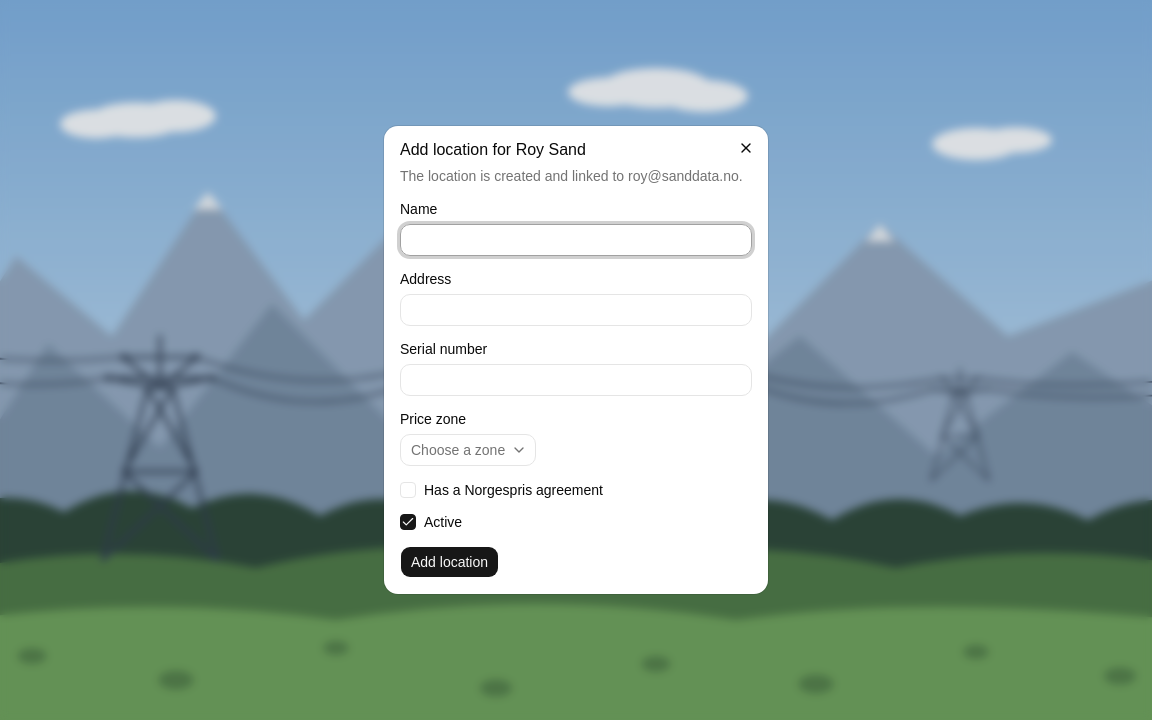
Test: AddLocationDialog › shows a duplicate serial number message and keeps the typed values
The width and height of the screenshot is (1152, 720).
Type "Cabin" into the field labelled "Name".
click(576, 240); type("Cabin")  # box [400,224,752,256]
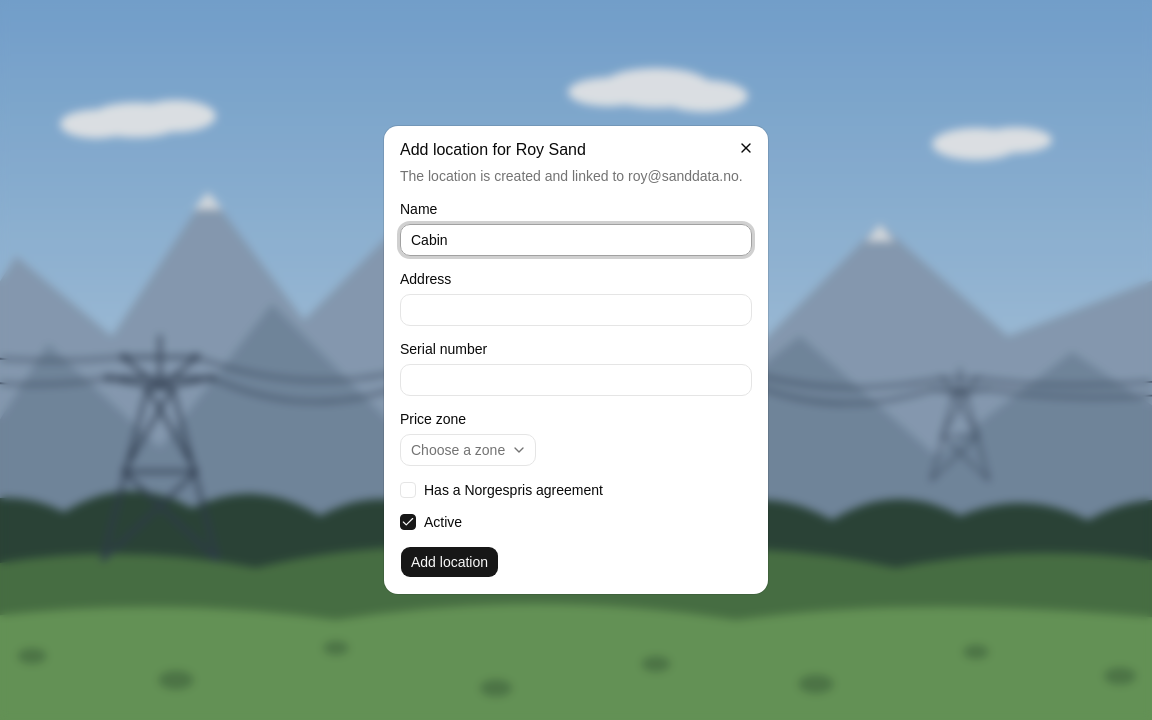
Type "Hyttevegen 1" into the field labelled "Address".
click(576, 310); type("Hyttevegen 1")  # box [400,294,752,326]
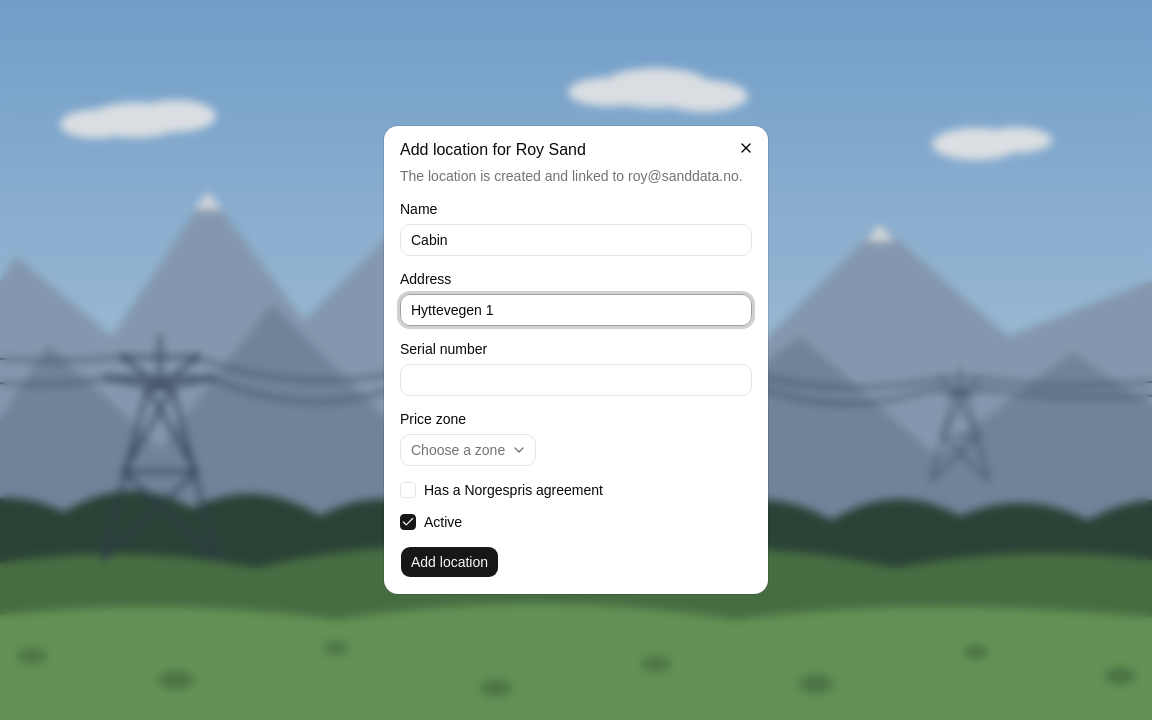
Type "SN-1" into the field labelled "Serial number".
click(576, 380); type("SN-1")  # box [400,364,752,396]
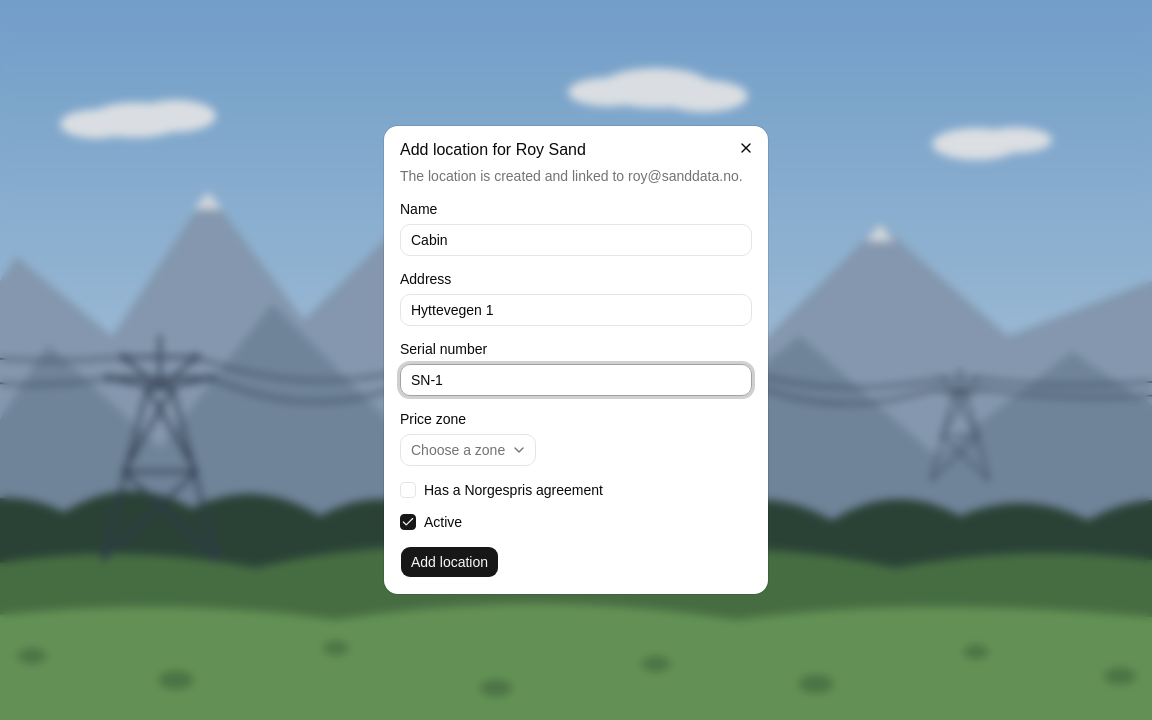
Click the dropdown named "Price zone".
click(468, 450)  # box [400,434,536,466]
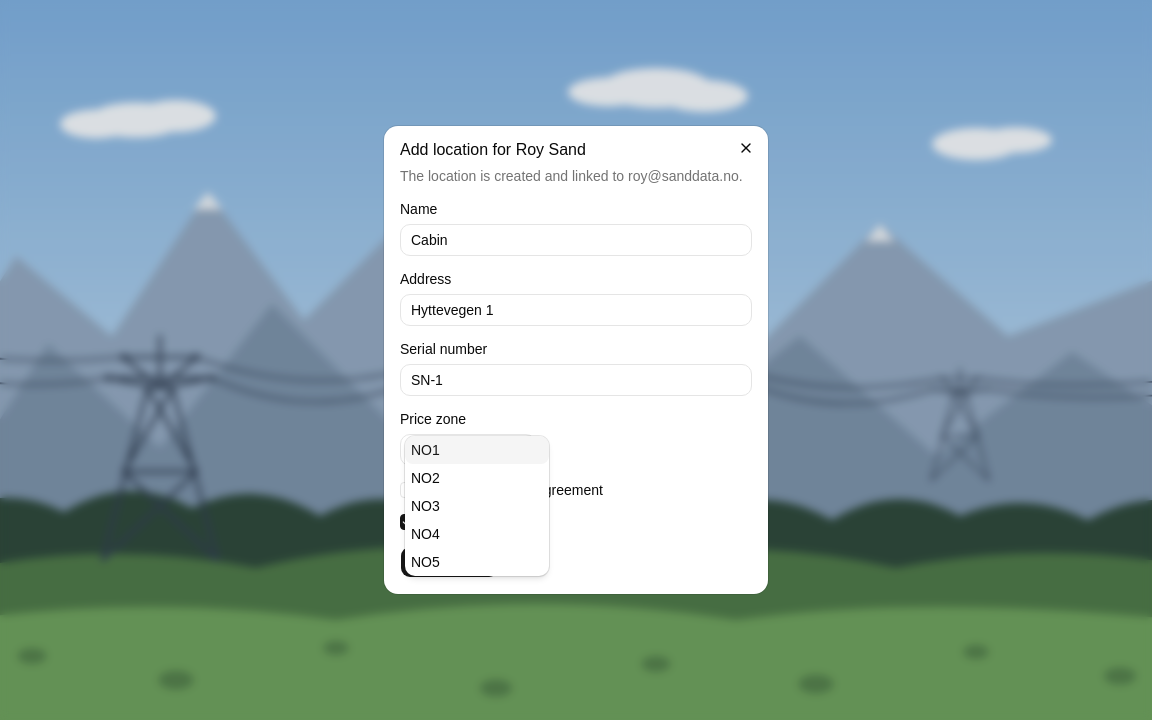
Click the option "NO3".
click(425, 506)  # box [411,498,440,514]
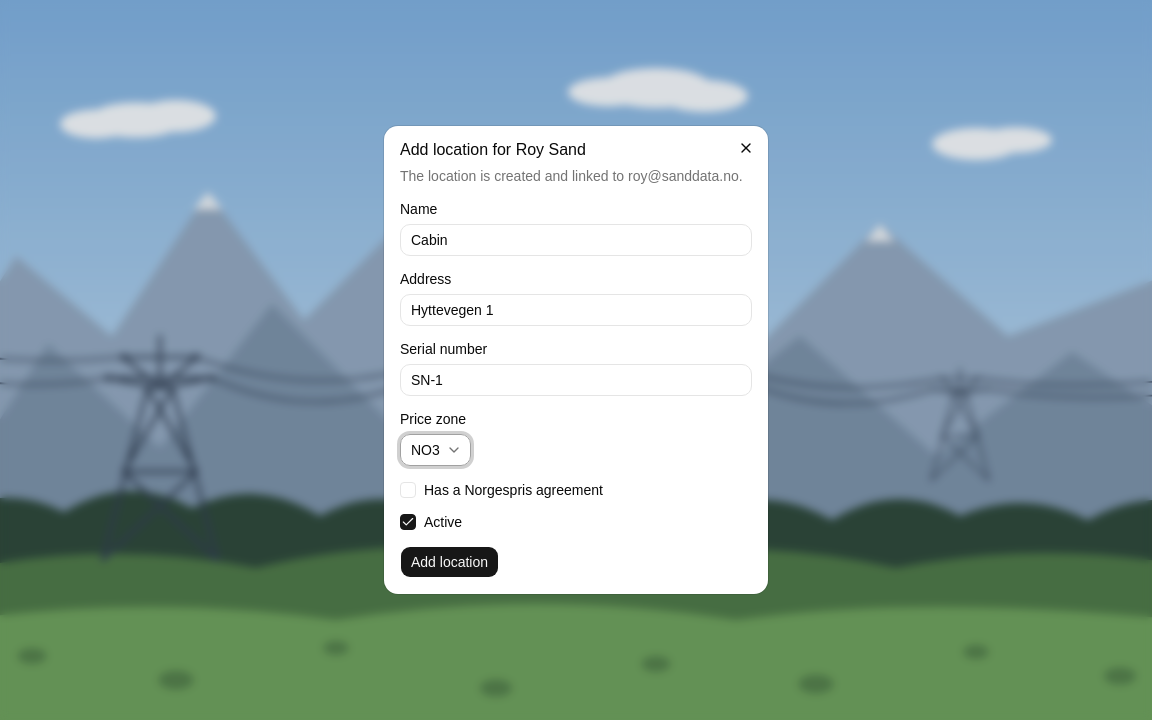
Click the button "Add location".
click(450, 562)  # box [400,546,499,578]
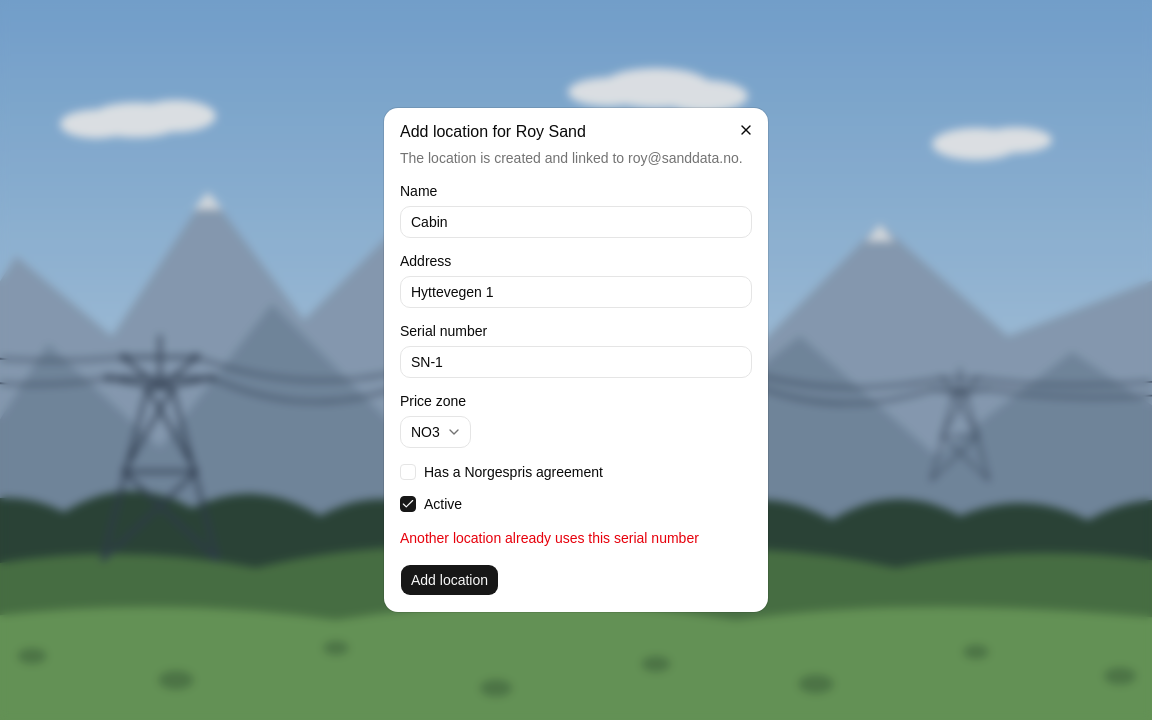
Result: the message shows "already uses this serial number" at [400,530,699,546]
